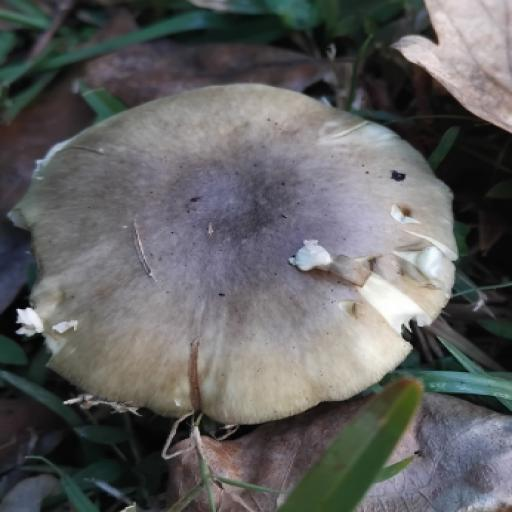Death Cap: (23, 79, 459, 435)
